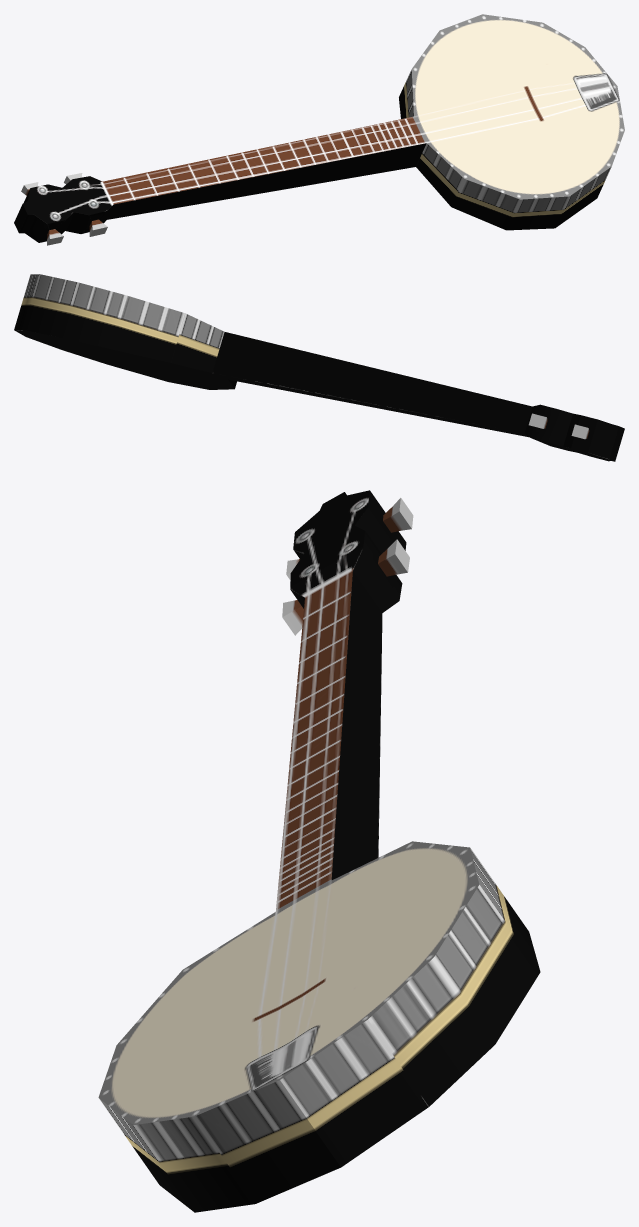
File: guitarra1_000204.obj
3 views of the same model, one above another, from view 1: azimuth 30°, elevation 25°; view 2: azimuth 150°, elevation 25°; view 3: azimuth 270°, elevation 25° (orthographic). The views are drawn at different scales.
Visible parts, largest first — view 1: g1_pCube6; view 2: g1_pCube6; view 3: g1_pCube6.
Part boxes in pixels (left/top/right/bottom): g1_pCube6: left=14, top=14, right=624, bottom=245; g1_pCube6: left=14, top=274, right=624, bottom=461; g1_pCube6: left=98, top=490, right=540, bottom=1212.
Size of the model in its own units: 13.39 by 3.4 by 4.42.
